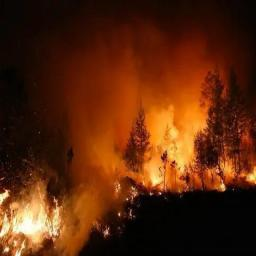Heavy smoke: (65, 23, 230, 212)
Large fire: (1, 91, 256, 255)
